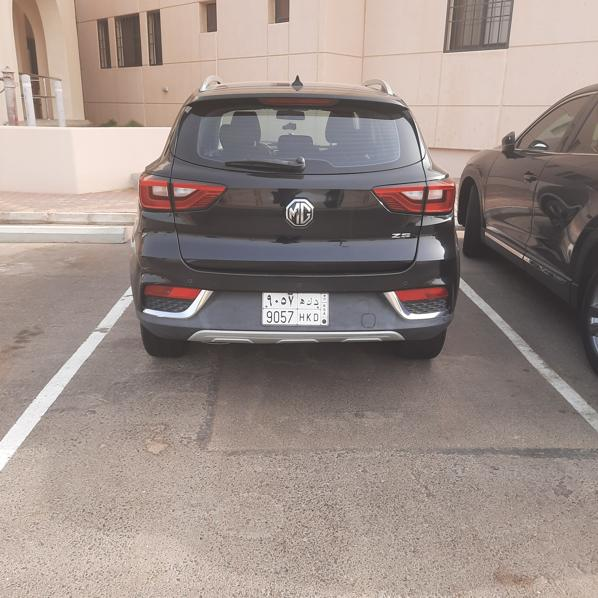numberplate: (262, 292, 328, 325)
